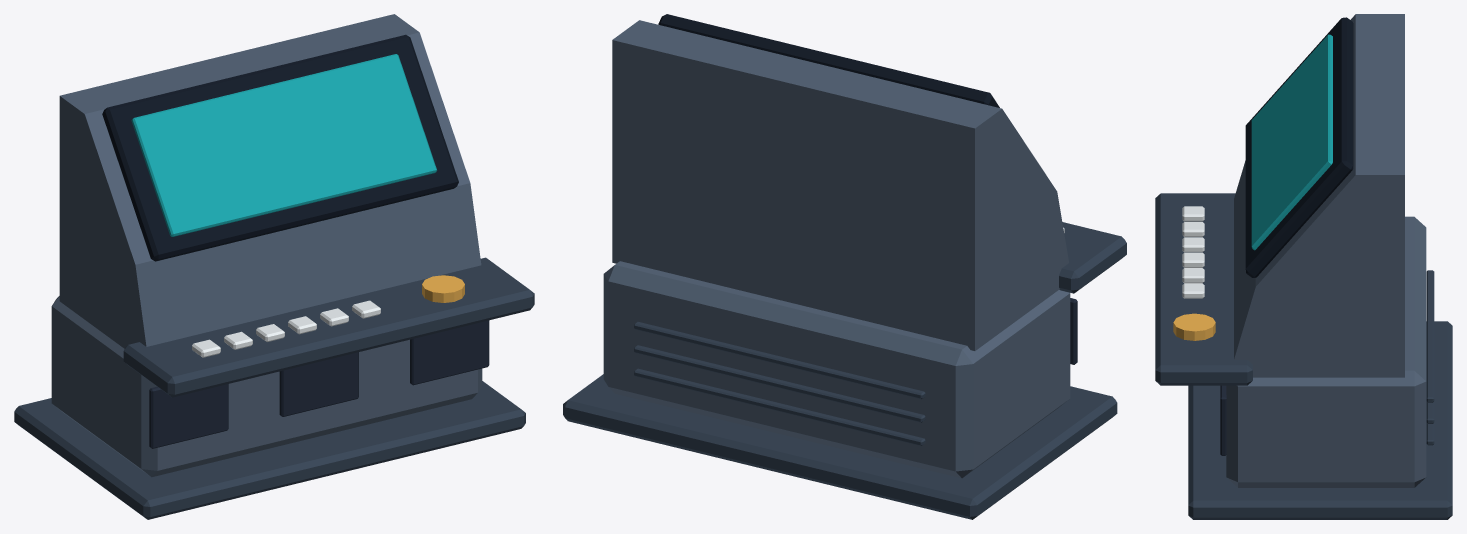
File: 01_Command_Console.glb
3 renders of one model, left to right at view 1: azimuth 30°, elevation 25°; view 2: azimuth 150°, elevation 25°; view 3: azimuth 270°, elevation 25°, orthographic. The views are drawn at different scales.
Parts seen in each view (by area): view 1: 01_Command_Console__Body; view 2: 01_Command_Console__Body; view 3: 01_Command_Console__Body.
Boxes of the visible parts, left/top/right/bottom form: 01_Command_Console__Body: left=14, top=14, right=534, bottom=519; 01_Command_Console__Body: left=563, top=14, right=1126, bottom=519; 01_Command_Console__Body: left=1155, top=14, right=1452, bottom=519.
Size of the model in its own units: 3.7 by 3.2 by 2.53.
Materials: 1 (1 with a texture image).
